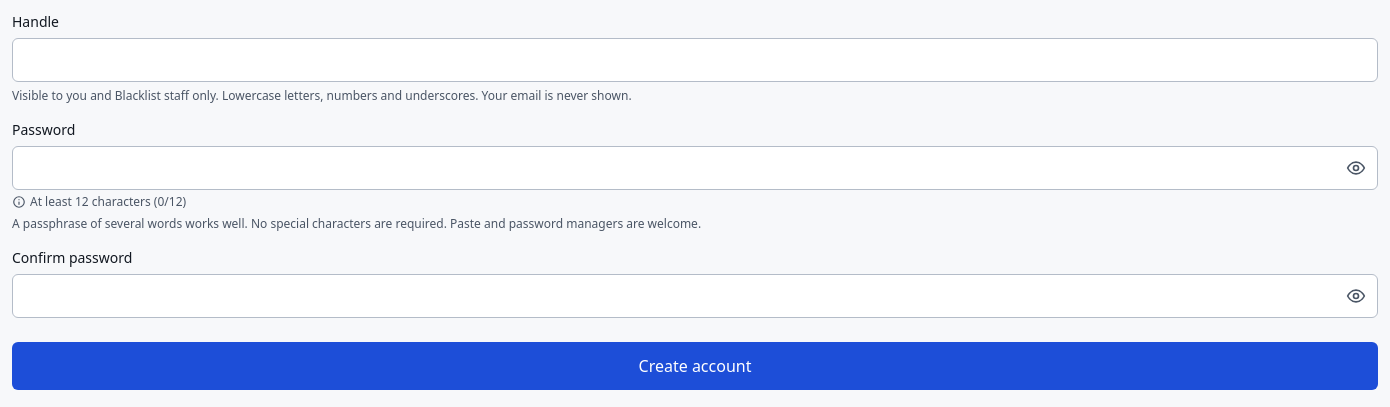
Test case: token pages › show expired and used states returned by the API
Type "demo_user" into the field labelled "Handle" at x=695, y=60, box [12,38,1378,82]
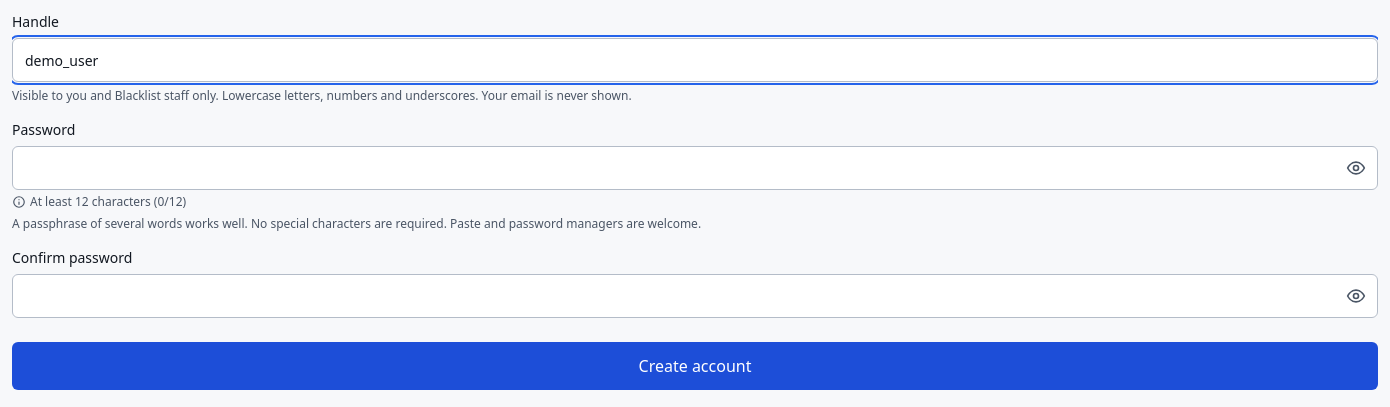
Type "correct horse battery staple" into the password field labelled "Password" at x=695, y=168, box [12,146,1378,190]
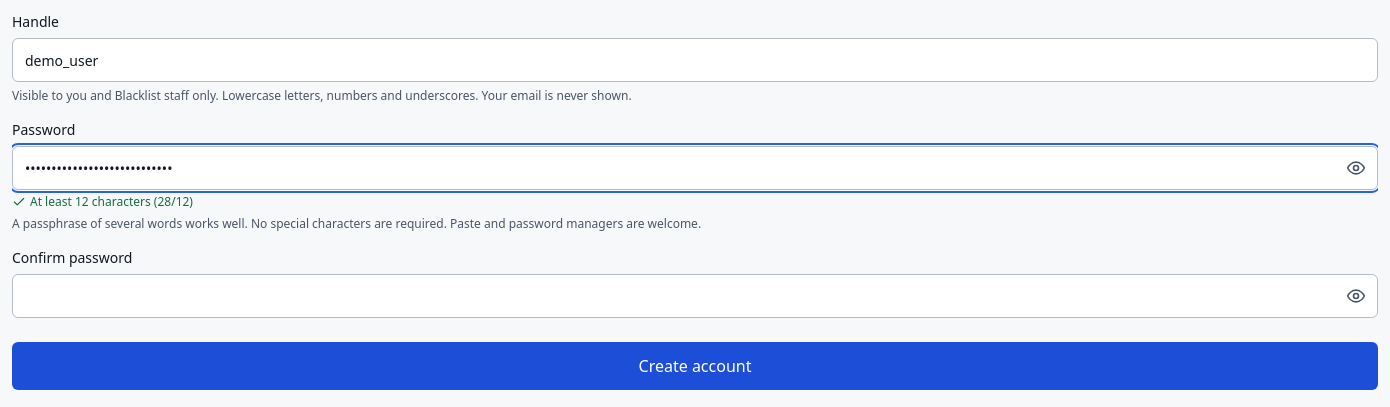
Type "correct horse battery staple" into the password field labelled "Confirm password" at x=695, y=296, box [12,274,1378,318]
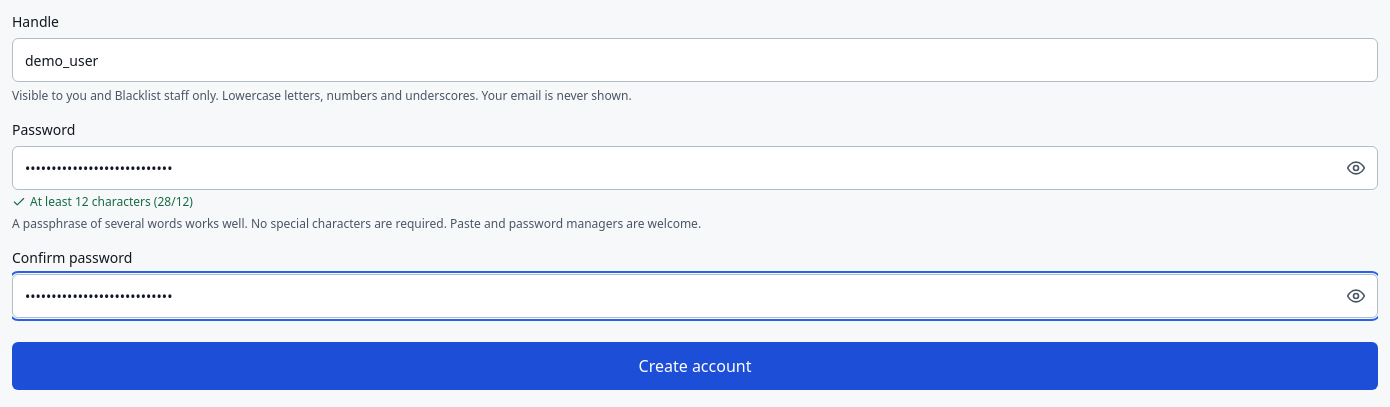
Click the button "Create account" at x=695, y=366, box [12,342,1378,390]
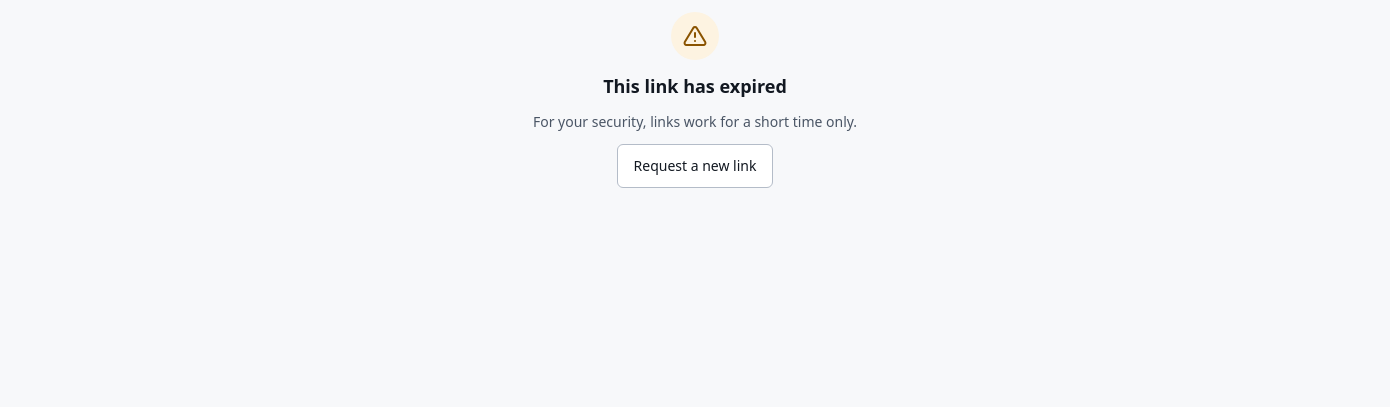
Now the heading "This link has expired" is shown, box [603,72,787,100]
